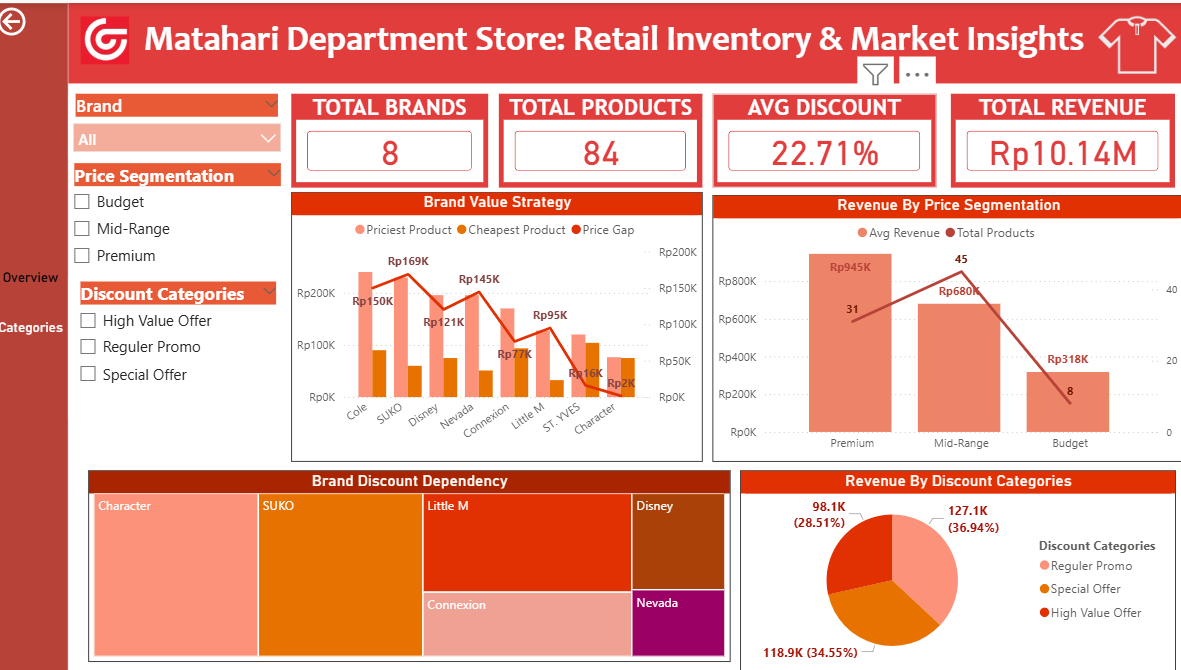

The page's visual inventory and layout, read from the dashboard file:
{"tool":"powerbi","page":{"name":"Categories","canvas":[1280,720],"ordinal":1},"visuals":[{"type":"slicer","fields":{"Values":["Brand Performance.price_segment"]},"box":[74.8,166.9,247.5,154],"z":0},{"type":"shape","box":[80.6,0,1198.8,86.3],"z":1000},{"type":"cardVisual","title":"TOTAL BRANDS","fields":{"Data":["Sum(kpi.total_brands)"]},"box":[319.5,97.9,211.6,100.7],"z":2000},{"type":"cardVisual","title":"TOTAL PRODUCTS","fields":{"Data":["Sum(kpi.total_products)"]},"box":[542.6,97.9,218.7,100.7],"z":3000},{"type":"cardVisual","title":"TOTAL REVENUE","fields":{"Data":["Sum(kpi.total_revenue)"]},"box":[1029,97.9,240.3,100.7],"z":4000},{"type":"cardVisual","title":"AVG DISCOUNT","fields":{"Data":["coda_P0M1_zafirah_aida.Disc yg bener"]},"box":[772.8,97.9,240.3,100.7],"z":5000},{"type":"shape","box":[0,0,80.6,719.6],"z":6000},{"type":"slicer","fields":{"Values":["Analisis Dominasi Pasar.brand"]},"box":[80.6,97.9,233.1,69.1],"z":7000},{"type":"treemap","title":"Brand Discount Dependency","fields":{"Group":["Discount Efficiency.brand"],"Values":["Sum(Discount Efficiency.reliance_on_high_discounts_pct)"]},"box":[102.2,502.3,689.4,205.8],"z":8000},{"type":"lineClusteredColumnComboChart","title":"Brand Value Strategy","fields":{"Category":["Analisis Dominasi Pasar.brand"],"Y":["Sum(Brand Pricing Integrity.priciest_product)","Sum(Brand Pricing Integrity.cheapest_product)"],"Y2":["Avg(Brand Pricing Integrity.price_gap)"]},"box":[319.5,202.9,441.8,289.3],"z":9000},{"type":"pieChart","title":"Revenue By Discount Categories","fields":{"Category":["rata-rata revenue per kategori diskon.disc_category"],"Y":["Sum(rata-rata revenue per kategori diskon.avg_revenue)"]},"box":[801.6,502.3,467.7,217.3],"z":10000},{"type":"lineClusteredColumnComboChart","title":"Revenue By Price Segmentation","fields":{"Category":["Brand Performance.price_segment"],"Y2":["Sum(Brand Performance.total_products)"],"Y":["Sum(Brand Performance.avg_price)"]},"box":[772.8,205.8,506.6,286.4],"z":11000},{"type":"slicer","fields":{"Values":["rata-rata revenue per kategori diskon.disc_category"]},"box":[80.6,293.6,236,154],"z":12000},{"type":"actionButton","box":[0,0,100,40],"z":13000},{"type":"actionButton","title":"Overview","box":[0,285,80.6,40.3],"z":14000},{"type":"actionButton","title":"Categories","box":[0,339.6,80.6,40.3],"z":15000},{"type":"image","box":[1184.4,2.9,86.3,83.5],"z":16000},{"type":"textbox","box":[156.9,10.1,1023.2,59],"z":17000},{"type":"image","box":[93.5,10.1,51.8,60.4],"z":18000}]}

Visuals, with their boxes on the page's 1280x720 design canvas (x1, y1, x2, y2). These are canvas units, not pixel positions in the 1181x670 screenshot, which may show the page scaled, cropped or inside an application window:
slicer - Brand Performance.price_segment: {"left": 75, "top": 167, "right": 322, "bottom": 321}
shape: {"left": 81, "top": 0, "right": 1279, "bottom": 86}
"TOTAL BRANDS" cardVisual: {"left": 320, "top": 98, "right": 531, "bottom": 199}
"TOTAL PRODUCTS" cardVisual: {"left": 543, "top": 98, "right": 761, "bottom": 199}
"TOTAL REVENUE" cardVisual: {"left": 1029, "top": 98, "right": 1269, "bottom": 199}
"AVG DISCOUNT" cardVisual: {"left": 773, "top": 98, "right": 1013, "bottom": 199}
shape: {"left": 0, "top": 0, "right": 81, "bottom": 720}
slicer - Analisis Dominasi Pasar.brand: {"left": 81, "top": 98, "right": 314, "bottom": 167}
"Brand Discount Dependency" treemap: {"left": 102, "top": 502, "right": 792, "bottom": 708}
"Brand Value Strategy" lineClusteredColumnComboChart: {"left": 320, "top": 203, "right": 761, "bottom": 492}
"Revenue By Discount Categories" pieChart: {"left": 802, "top": 502, "right": 1269, "bottom": 720}
"Revenue By Price Segmentation" lineClusteredColumnComboChart: {"left": 773, "top": 206, "right": 1279, "bottom": 492}
slicer - rata-rata revenue per kategori diskon.disc_category: {"left": 81, "top": 294, "right": 317, "bottom": 448}
actionButton: {"left": 0, "top": 0, "right": 100, "bottom": 40}
"Overview" actionButton: {"left": 0, "top": 285, "right": 81, "bottom": 325}
"Categories" actionButton: {"left": 0, "top": 340, "right": 81, "bottom": 380}
image: {"left": 1184, "top": 3, "right": 1271, "bottom": 86}
textbox: {"left": 157, "top": 10, "right": 1180, "bottom": 69}
image: {"left": 94, "top": 10, "right": 145, "bottom": 70}
